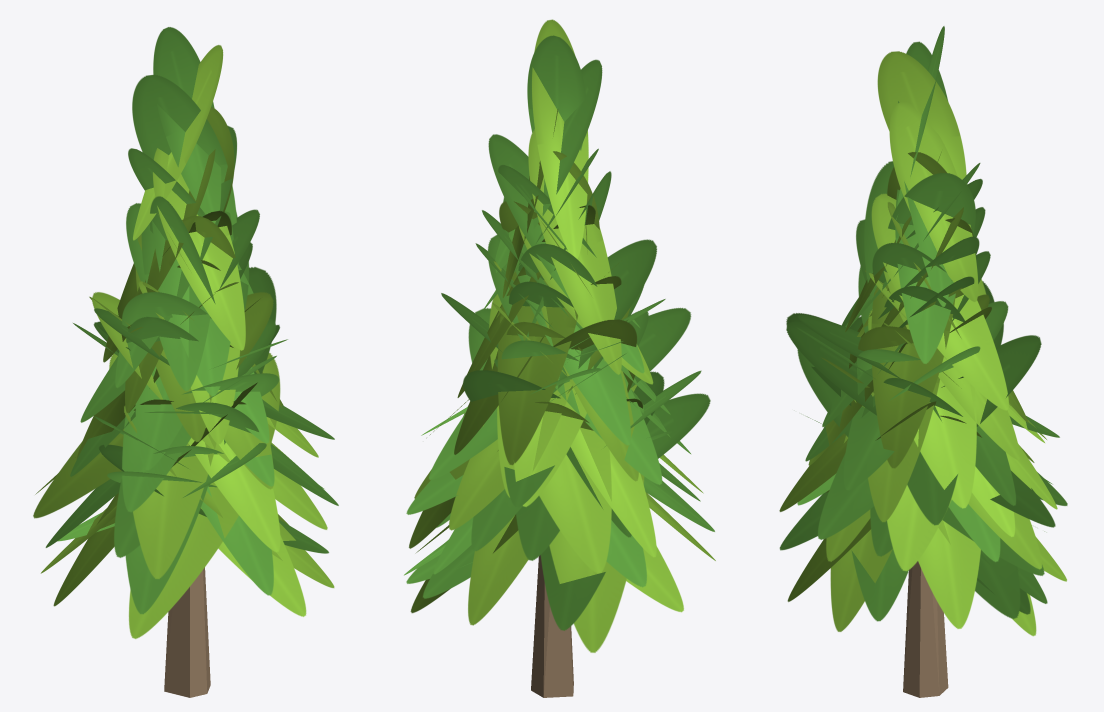
Rendered from tree_tall_deep_lod2.glb.
3 views of the same model, side by side, from view 1: azimuth 30°, elevation 25°; view 2: azimuth 150°, elevation 25°; view 3: azimuth 270°, elevation 25° (orthographic).
Visible parts, largest first — view 1: foliage, trunk; view 2: foliage, trunk; view 3: foliage, trunk.
Boxes of the visible parts, left/top/right/bottom form: foliage: left=33, top=27, right=338, bottom=638; trunk: left=164, top=567, right=210, bottom=697; foliage: left=404, top=19, right=715, bottom=652; trunk: left=531, top=555, right=573, bottom=697; foliage: left=779, top=26, right=1067, bottom=636; trunk: left=903, top=561, right=948, bottom=697.
Size of the model in its own units: 3.35 by 7.67 by 3.52.
Materials: 3 (2 with a texture image).
